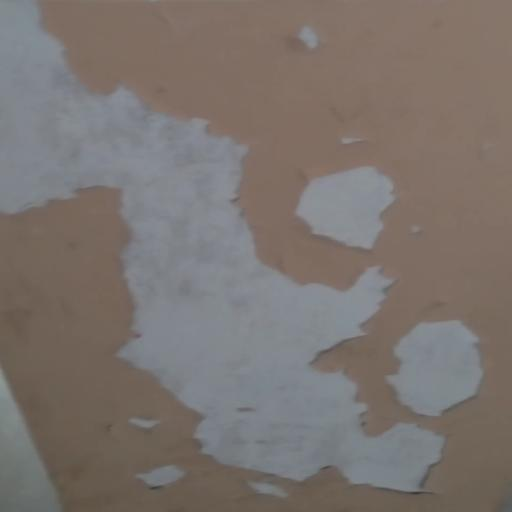peeling: (0, 0, 493, 504)
